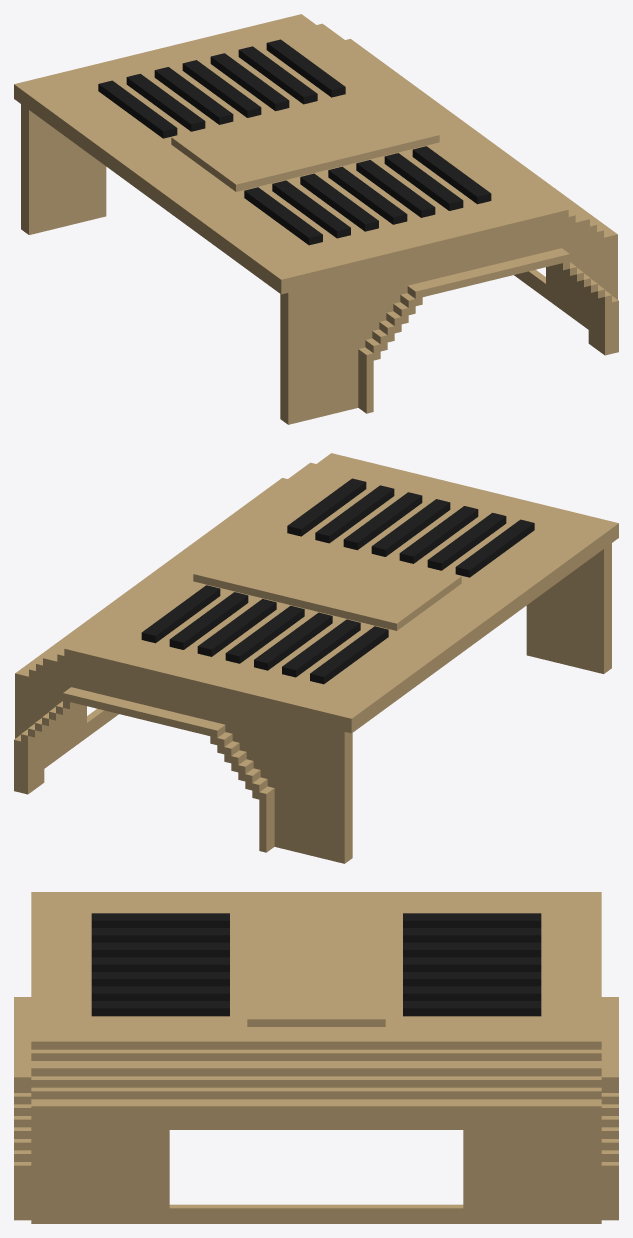
The model's file is light_tactical_vehicle_bonnet.glb.
3 renders of one model, top to bottom at view 1: azimuth 30°, elevation 25°; view 2: azimuth 150°, elevation 25°; view 3: azimuth 270°, elevation 25°, orthographic. The views are drawn at different scales.
Visible parts, largest first — view 1: body:compound; view 2: body:compound; view 3: body:compound.
Part boxes in pixels (x1=…): body:compound: x1=14, y1=14, x2=618, y2=424; body:compound: x1=14, y1=453, x2=618, y2=863; body:compound: x1=14, y1=892, x2=618, y2=1223.
Size of the model in its own units: 1.5 by 0.6562 by 2.19.
